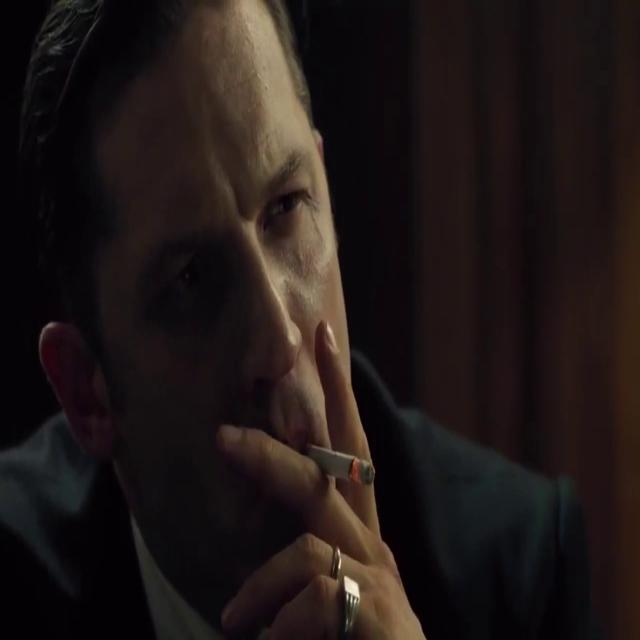Smooking: (315, 421, 382, 512)
